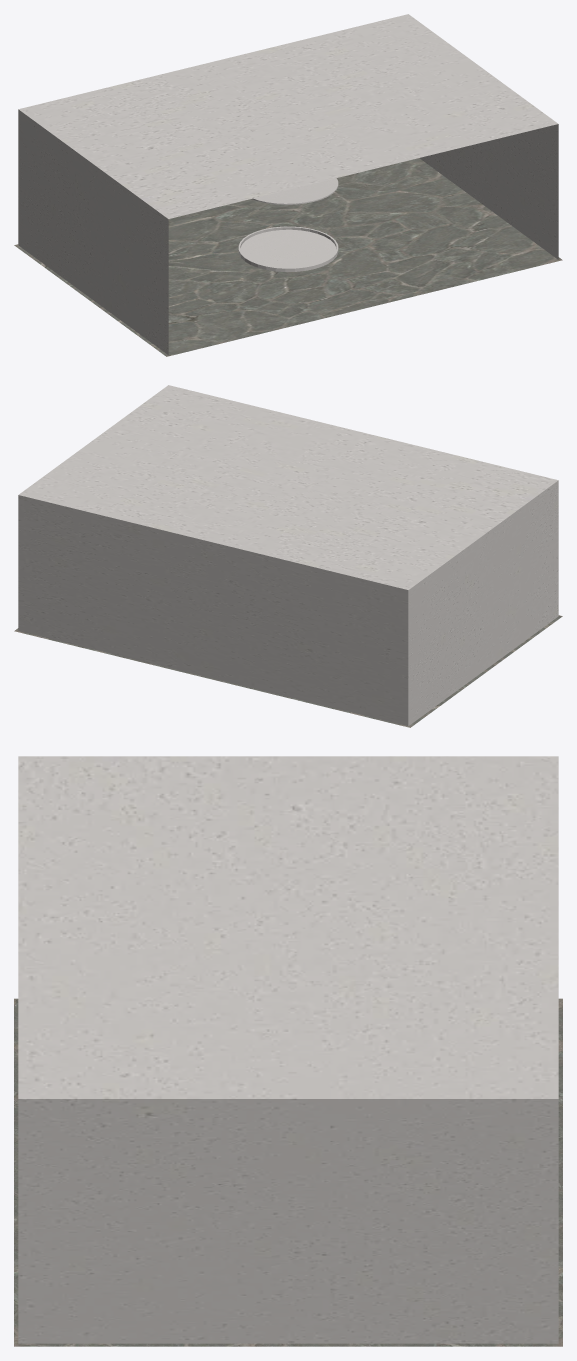
File: art_gallery-transformed.glb
3 renders of one model, top to bottom at view 1: azimuth 30°, elevation 25°; view 2: azimuth 150°, elevation 25°; view 3: azimuth 270°, elevation 25°, orthographic. The views are drawn at different scales.
Parts seen in each view (by area): view 1: Cube, Plane; view 2: Cube, Plane; view 3: Cube, Plane.
Boxes of the visible parts, <box> form: Cube: <box>18,14,558,354</box>; Plane: <box>14,158,562,356</box>; Cube: <box>18,385,558,726</box>; Plane: <box>14,615,562,727</box>; Cube: <box>18,756,558,1343</box>; Plane: <box>14,998,562,1346</box>.
Bounding box in the file's own units: 36.58 × 12 × 24.38.
2 materials, 2 textured.
